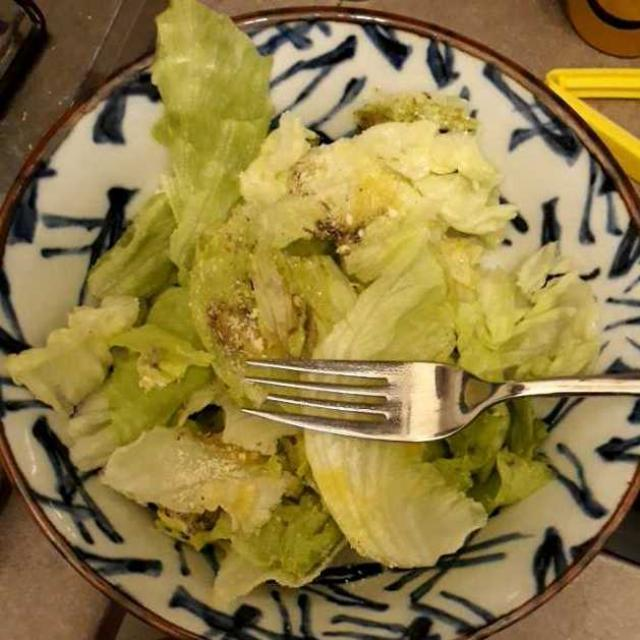salad: (27, 22, 590, 565)
